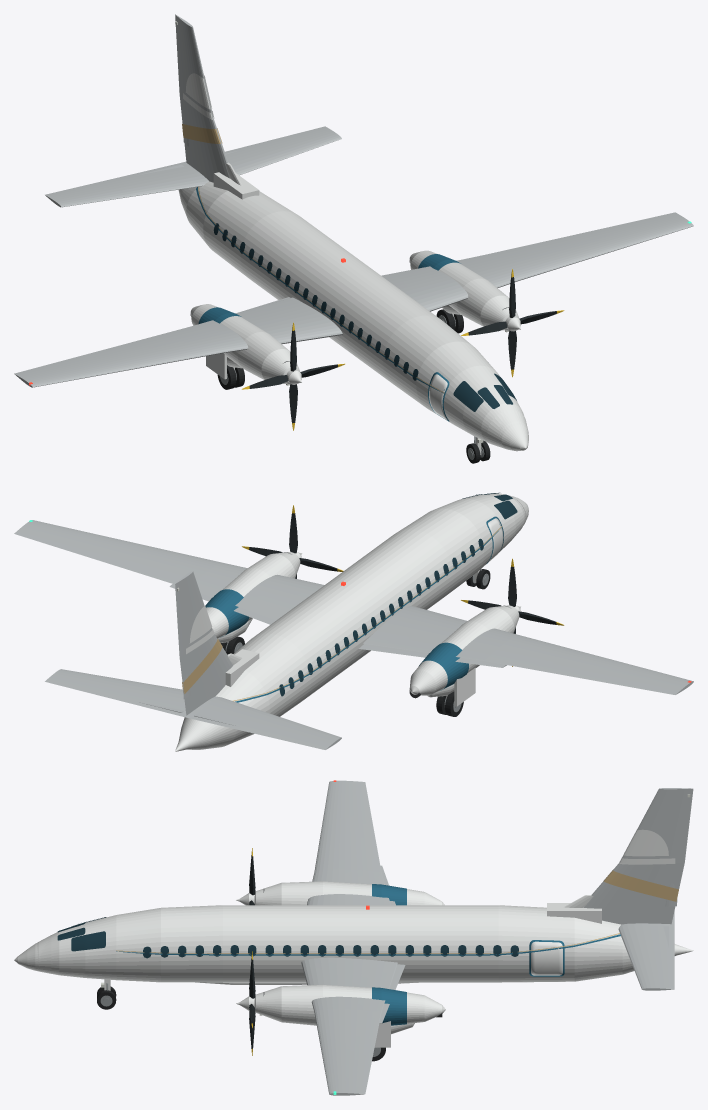
Rendered from mdl_saab_340b_v02_candidate.fbx.
3 renders of one model, top to bottom at view 1: azimuth 30°, elevation 25°; view 2: azimuth 150°, elevation 25°; view 3: azimuth 270°, elevation 25°, orthographic. The views are drawn at different scales.
Visible parts, largest first — view 1: fuselage, wing_left, wing_right, tailplane, tail_fin, engine_left, engine_right, radome, livery_secondary, livery_emblem, tail_root_fairing; view 2: fuselage, wing_left, wing_right, tailplane, tail_fin, engine_left, engine_right, livery_cowl_left, livery_cowl_right, livery_secondary, flap_left, livery_emblem (+4 smaller); view 3: fuselage, wing_right, wing_left, tail_fin, engine_right, tailplane, engine_left, livery_secondary, livery_emblem, cargo_door, livery_stripe_lower, livery_cowl_right (+4 smaller).
Part boxes in pixels (x1,y1,x2,y2): fuselage: [178, 181, 527, 448]; wing_left: [14, 297, 342, 387]; wing_right: [382, 212, 693, 311]; tailplane: [45, 126, 341, 207]; tail_fin: [175, 14, 230, 182]; engine_left: [190, 304, 300, 383]; engine_right: [409, 250, 519, 330]; radome: [487, 410, 528, 451]; livery_secondary: [182, 124, 444, 393]; livery_emblem: [183, 73, 214, 119]; tail_root_fairing: [213, 172, 259, 199]; fuselage: [175, 493, 528, 751]; wing_left: [363, 606, 693, 694]; wing_right: [14, 520, 324, 620]; tailplane: [45, 669, 341, 749]; tail_fin: [175, 571, 233, 715]; engine_left: [409, 605, 519, 695]; engine_right: [206, 552, 300, 638]; livery_cowl_left: [419, 642, 468, 690]; livery_cowl_right: [205, 589, 249, 637]; livery_secondary: [182, 526, 501, 701]; flap_left: [359, 644, 506, 667]; livery_emblem: [186, 606, 214, 654]; fuselage: [37, 905, 693, 982]; wing_right: [301, 957, 397, 1095]; wing_left: [307, 780, 390, 905]; tail_fin: [583, 788, 693, 924]; engine_right: [254, 984, 445, 1025]; tailplane: [618, 911, 674, 990]; engine_left: [254, 881, 444, 905]; livery_secondary: [116, 870, 678, 953]; livery_emblem: [619, 829, 675, 864]; cargo_door: [531, 941, 562, 975]; livery_stripe_lower: [116, 934, 620, 955]; livery_cowl_right: [372, 987, 406, 1025].
Bounding box in the file's own units: 2144 × 697 × 1973.
